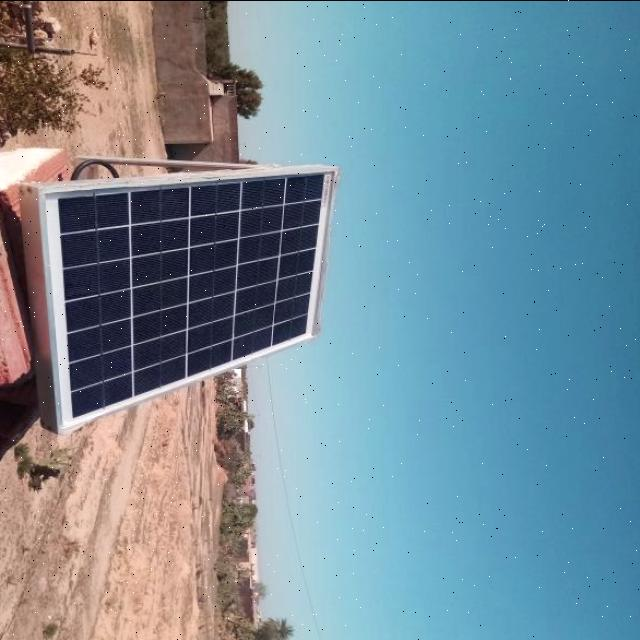Normal Solar Panel: (40, 170, 336, 430)
